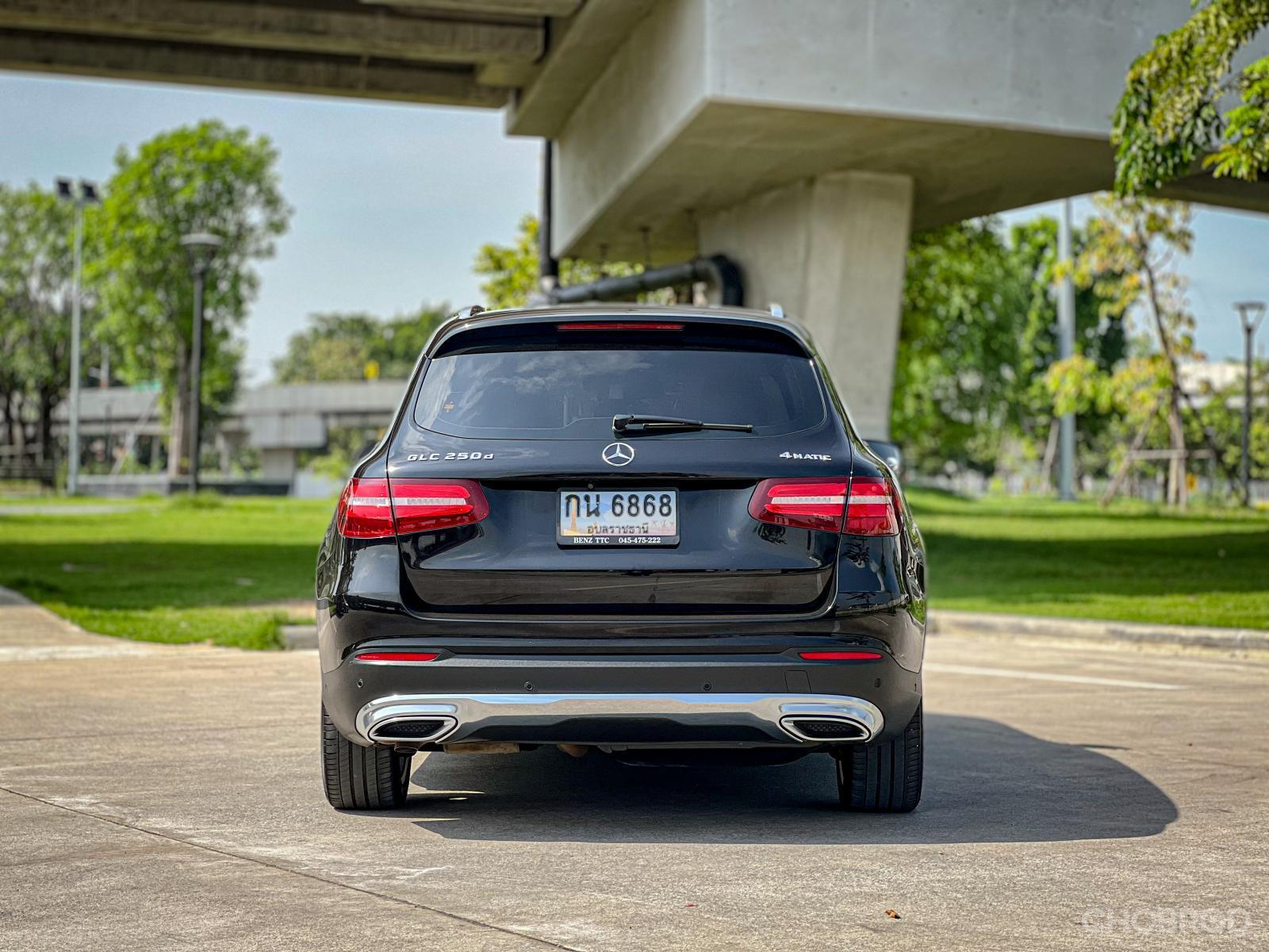license-plate: (554, 485, 683, 546)
